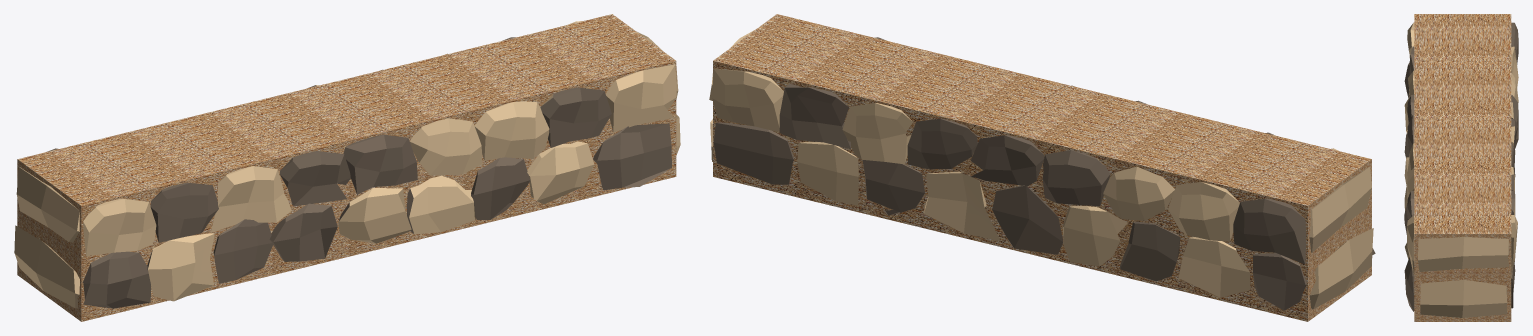
File: VallaPiedraConTexturaEmbed.fbx
3 renders of one model, left to right at view 1: azimuth 30°, elevation 25°; view 2: azimuth 150°, elevation 25°; view 3: azimuth 270°, elevation 25°, orthographic. The views are drawn at different scales.
Parts seen in each view (by area): view 1: BaseMuro, PiedrasDecorativa1, Piedradecorativa2, PiedrasDecorativas3; view 2: BaseMuro, PiedrasDecorativa1, Piedradecorativa2, PiedrasDecorativas3; view 3: BaseMuro, PiedrasDecorativas4, PiedrasDecorativa1, Piedradecorativa2.
Part boxes in pixels (x1=…): BaseMuro: x1=17, y1=14, x2=676, y2=321; PiedrasDecorativa1: x1=47, y1=21, x2=676, y2=256; Piedradecorativa2: x1=83, y1=123, x2=671, y2=308; PiedrasDecorativas3: x1=14, y1=167, x2=79, y2=308; BaseMuro: x1=713, y1=14, x2=1371, y2=321; PiedrasDecorativa1: x1=712, y1=37, x2=1339, y2=264; Piedradecorativa2: x1=713, y1=122, x2=1375, y2=310; PiedrasDecorativas3: x1=1300, y1=167, x2=1373, y2=309; BaseMuro: x1=1414, y1=14, x2=1511, y2=321; PiedrasDecorativas4: x1=1417, y1=236, x2=1509, y2=318; PiedrasDecorativa1: x1=1407, y1=22, x2=1518, y2=274; Piedradecorativa2: x1=1404, y1=62, x2=1515, y2=311.
Bounding box in the file's own units: 1124 × 203 × 236.
Materials: 7 (1 with a texture image).
